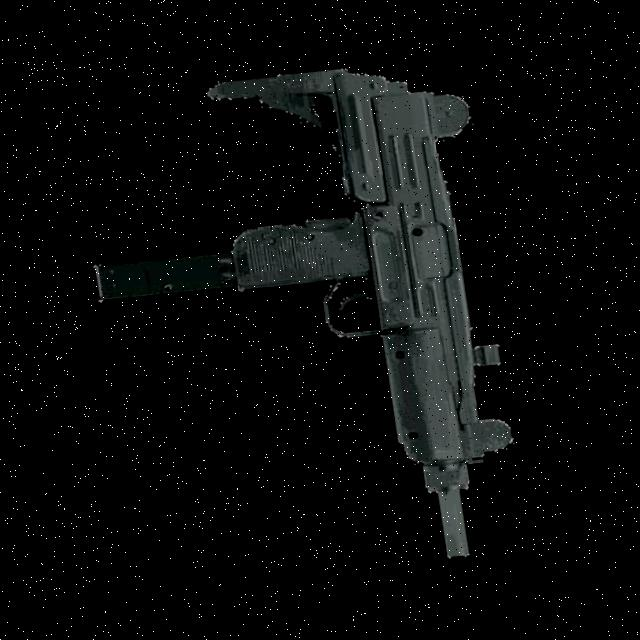firearm: (65, 44, 535, 595)
